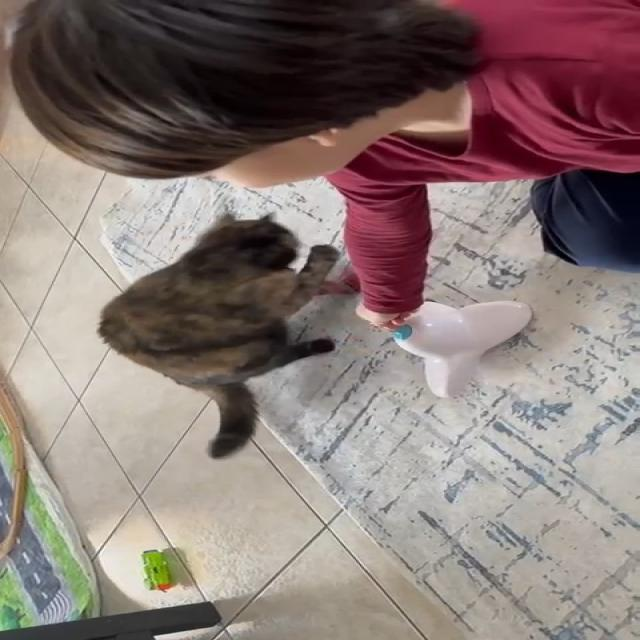authorized: (95, 210, 352, 459)
